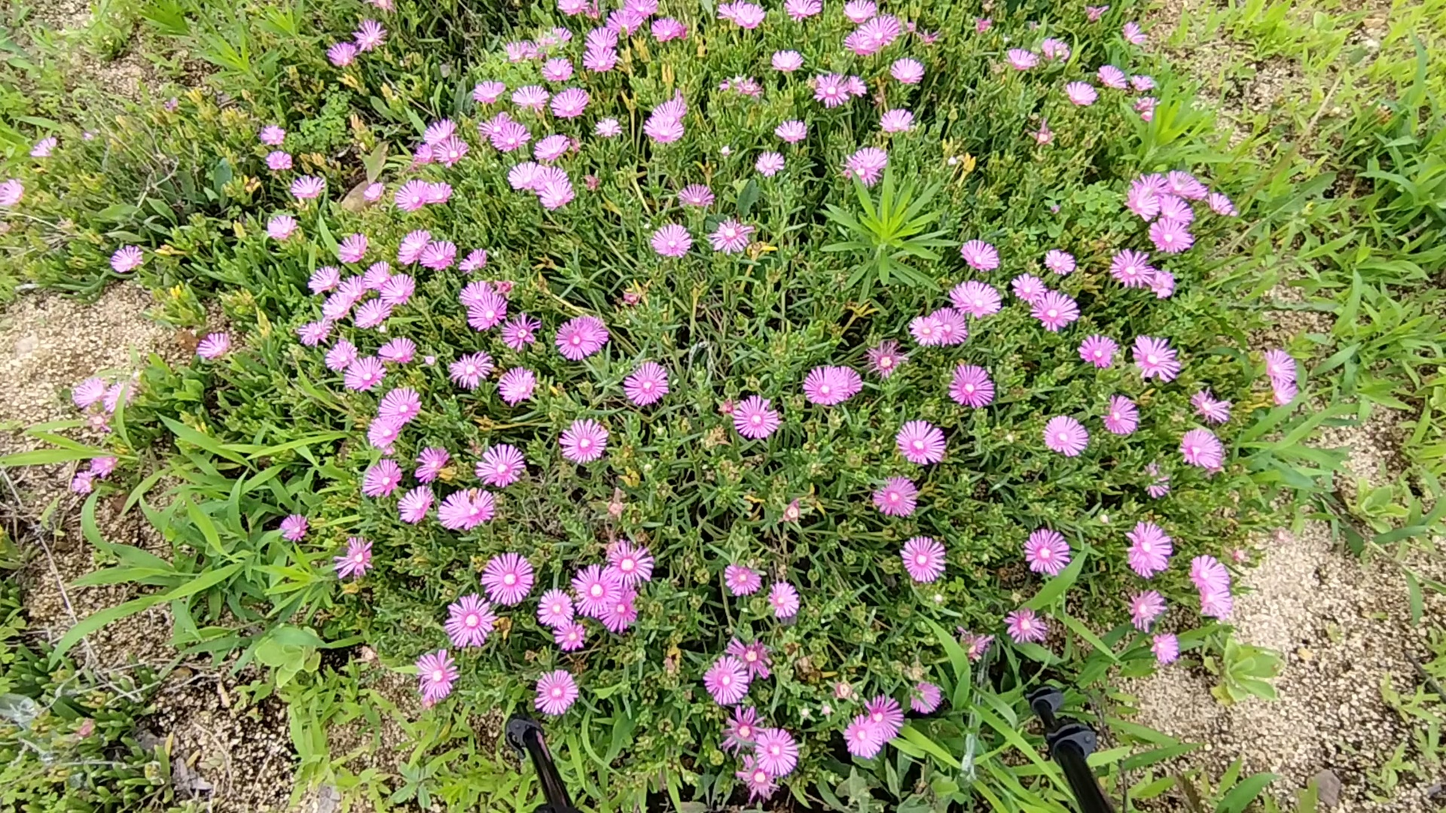bees: (466, 485, 479, 506)
